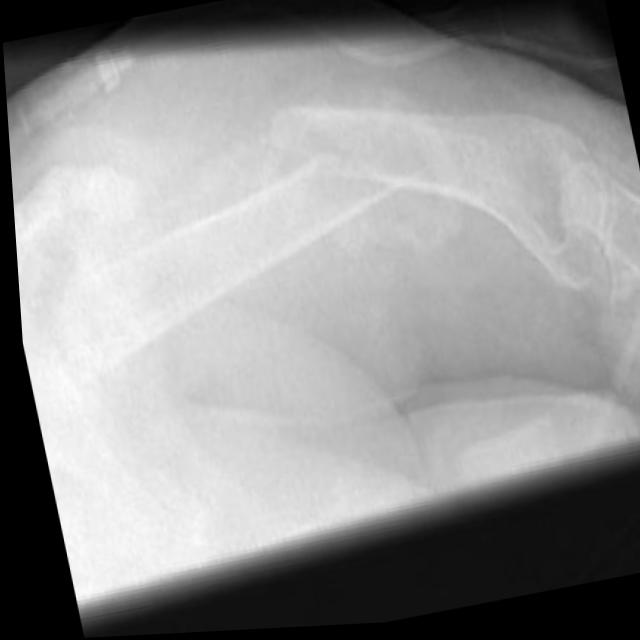fracture: (254, 75, 413, 248)
